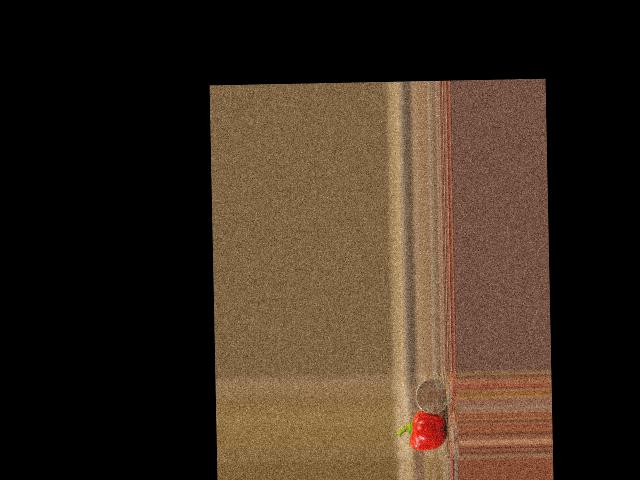bell_pepper: (397, 412, 448, 451)
